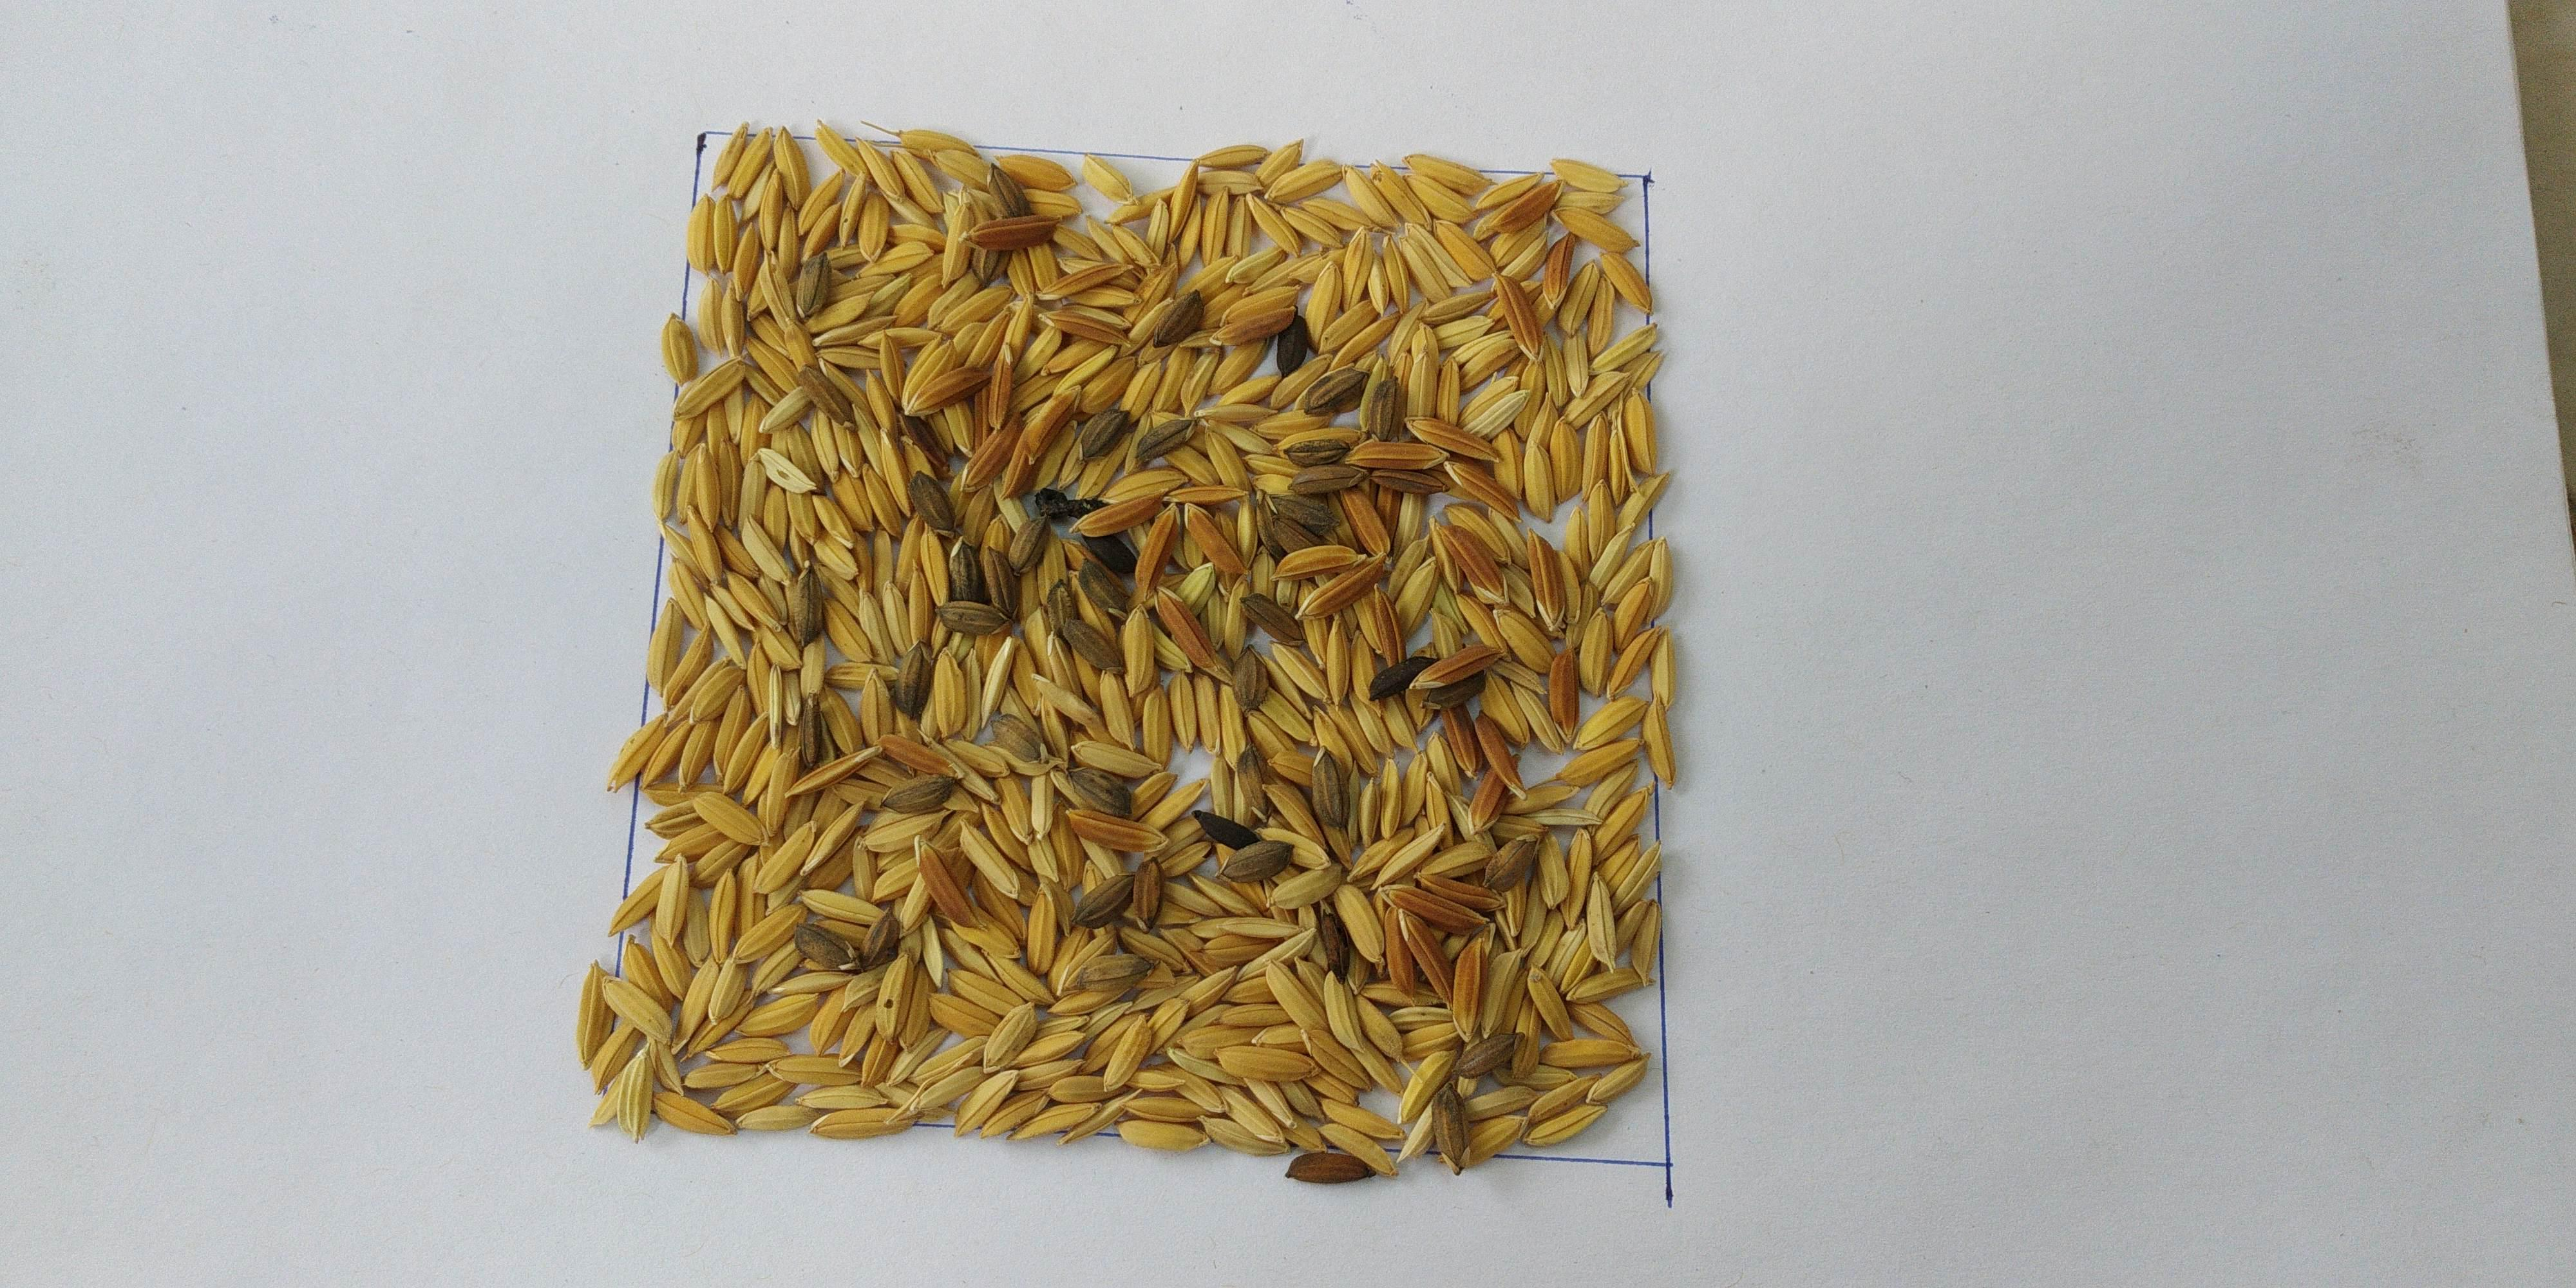impure: (700, 176, 1623, 1135)
